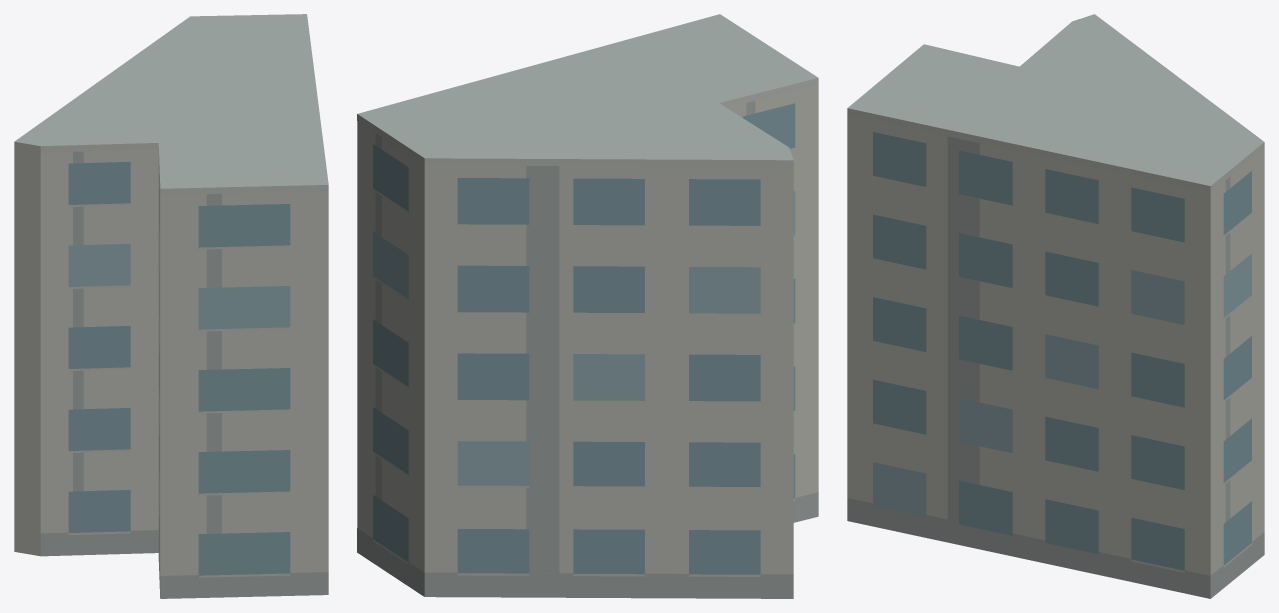
The model's file is survey-upis-32829115.glb.
3 views of the same model, side by side, from view 1: azimuth 30°, elevation 25°; view 2: azimuth 150°, elevation 25°; view 3: azimuth 270°, elevation 25° (orthographic). The views are drawn at different scales.
Parts seen in each view (by area): view 1: survey-upis-32829115.tmp; view 2: survey-upis-32829115.tmp; view 3: survey-upis-32829115.tmp.
Boxes of the visible parts, box(x1,y1,x2,y2) form: survey-upis-32829115.tmp: box(14, 14, 328, 598); survey-upis-32829115.tmp: box(357, 14, 818, 598); survey-upis-32829115.tmp: box(847, 14, 1264, 598).
Bounding box in the file's own units: 13.6 × 15.2 × 13.93.
